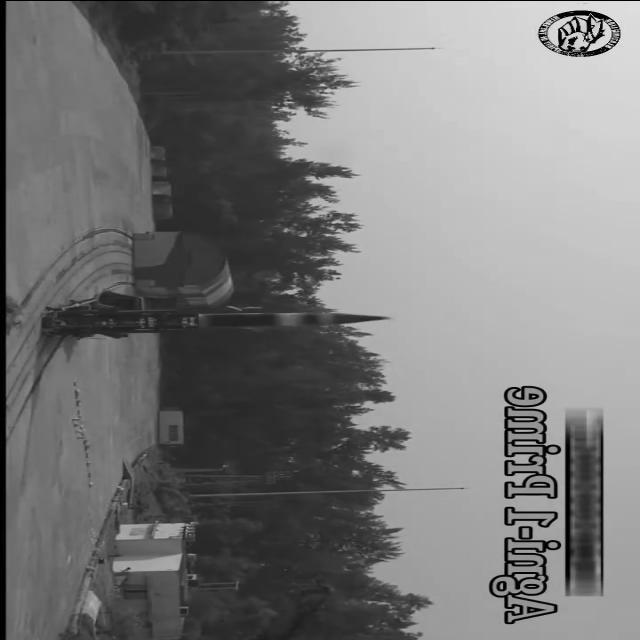Missile: (192, 308, 396, 330)
